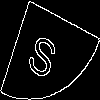S: (25, 25, 62, 81)
